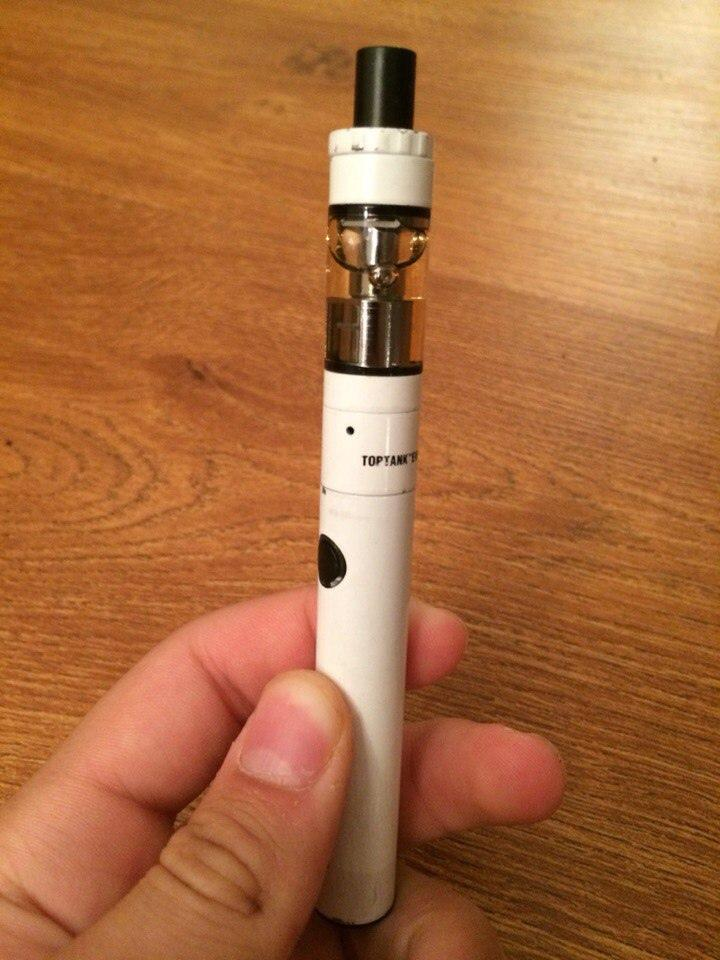Vape: (316, 46, 433, 925)
